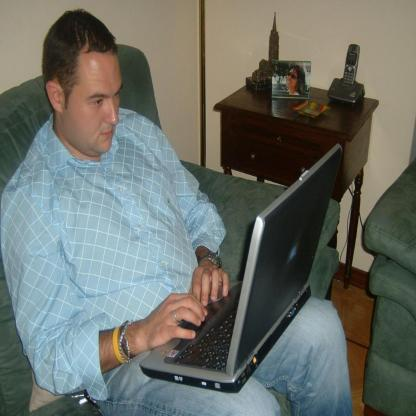board: (170, 163, 339, 410)
